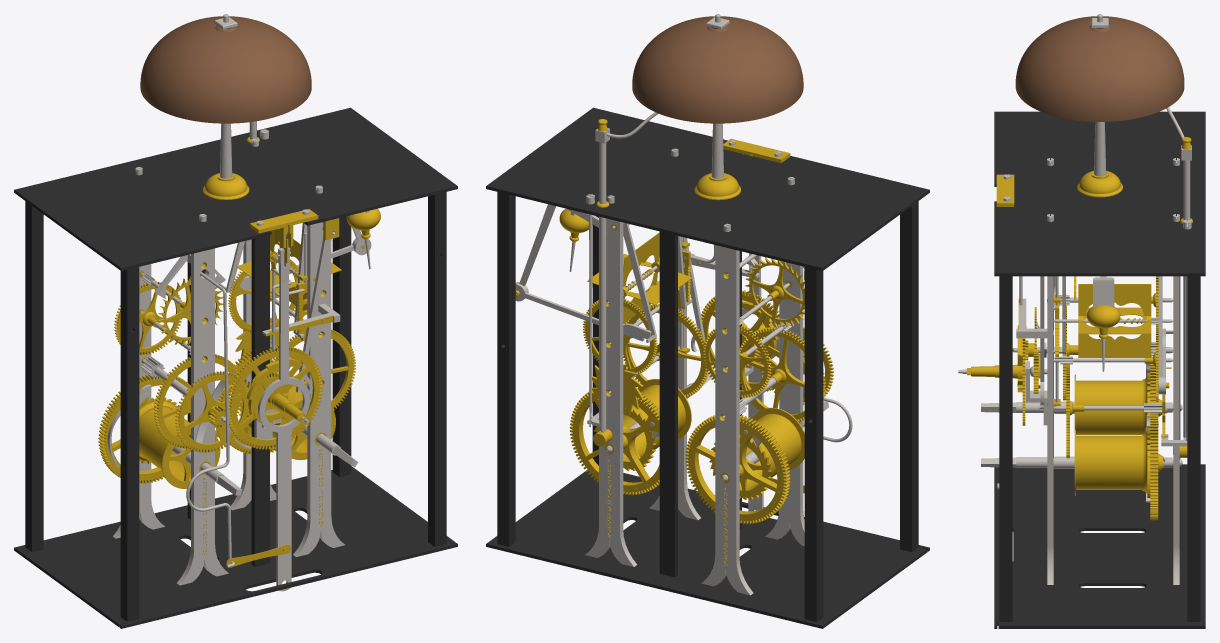
Rendered from Horloge-Comtoise_Ancre.glb.
3 renders of one model, left to right at view 1: azimuth 30°, elevation 25°; view 2: azimuth 150°, elevation 25°; view 3: azimuth 270°, elevation 25°, orthographic.
Visible parts, largest first — view 1: bati-1 - Part, Timbre-1 - Part, pilier avant mouvement-1 - Part, piliers avant sonnerie-1 - Part, tige balancier-2 - Part, Rouedesheures-1 - Part, Tambourmvt-1 - Part, RoueRenvoitrou-1 - Part, Couronnemvt-1 - Part, pilier arrière mouvement-1 - Part, Rouedetemps-1 - Part, tige-1 - Part (+12 smaller); view 2: bati-1 - Part, Timbre-1 - Part, pilier arrière mouvement-1 - Part, piliers arrière sonnerie-1 - Part, pilier avant mouvement-1 - Part, Couronnemvt-1 - Part, Tambourmvt-1 - Part, Couronneson-1 - Part, Bras marteau-1 - Part, Tambourson-1 - Part, Rouedetemps-1 - Part, piliers avant sonnerie-1 - Part (+16 smaller); view 3: bati-1 - Part, Timbre-1 - Part, Tambourson-1 - Part, Tambourmvt-1 - Part, piliers avant sonnerie-1 - Part, piliers arrière sonnerie-1 - Part, pale volant-2 - Part, pale volant-3 - Part, Bras marteau-1 - Part, Bras grande détente-1 - Part, axebarilletson-1 - Part, Couronneson-1 - Part (+15 smaller).
Part boxes in pixels (x1=…): bati-1 - Part: x1=14, y1=107, x2=457, y2=628; Timbre-1 - Part: x1=140, y1=16, x2=311, y2=123; pilier avant mouvement-1 - Part: x1=177, y1=248, x2=228, y2=585; piliers avant sonnerie-1 - Part: x1=293, y1=222, x2=344, y2=556; tige balancier-2 - Part: x1=258, y1=247, x2=310, y2=591; Rouedesheures-1 - Part: x1=228, y1=346, x2=322, y2=449; Tambourmvt-1 - Part: x1=139, y1=397, x2=220, y2=488; RoueRenvoitrou-1 - Part: x1=175, y1=371, x2=250, y2=453; Couronnemvt-1 - Part: x1=98, y1=373, x2=190, y2=483; pilier arrière mouvement-1 - Part: x1=113, y1=264, x2=164, y2=538; Rouedetemps-1 - Part: x1=153, y1=354, x2=242, y2=449; tige-1 - Part: x1=186, y1=254, x2=234, y2=567; bati-1 - Part: x1=486, y1=107, x2=929, y2=628; Timbre-1 - Part: x1=632, y1=16, x2=803, y2=123; pilier arrière mouvement-1 - Part: x1=701, y1=245, x2=753, y2=595; piliers arrière sonnerie-1 - Part: x1=585, y1=217, x2=637, y2=566; pilier avant mouvement-1 - Part: x1=765, y1=261, x2=804, y2=546; Couronnemvt-1 - Part: x1=685, y1=415, x2=790, y2=524; Tambourmvt-1 - Part: x1=709, y1=407, x2=804, y2=499; Couronneson-1 - Part: x1=569, y1=390, x2=659, y2=495; Bras marteau-1 - Part: x1=587, y1=142, x2=606, y2=432; Tambourson-1 - Part: x1=594, y1=379, x2=691, y2=470; Rouedetemps-1 - Part: x1=739, y1=327, x2=825, y2=421; piliers avant sonnerie-1 - Part: x1=649, y1=237, x2=700, y2=520; bati-1 - Part: x1=994, y1=111, x2=1205, y2=628; Timbre-1 - Part: x1=1015, y1=16, x2=1184, y2=121; Tambourson-1 - Part: x1=1074, y1=427, x2=1150, y2=497; Tambourmvt-1 - Part: x1=1074, y1=372, x2=1150, y2=434; piliers avant sonnerie-1 - Part: x1=1047, y1=276, x2=1053, y2=584; piliers arrière sonnerie-1 - Part: x1=1173, y1=276, x2=1179, y2=584; pale volant-2 - Part: x1=1078, y1=334, x2=1151, y2=357; pale volant-3 - Part: x1=1078, y1=284, x2=1151, y2=315; Bras marteau-1 - Part: x1=1161, y1=160, x2=1190, y2=446; Bras grande détente-1 - Part: x1=1040, y1=276, x2=1162, y2=405; axebarilletson-1 - Part: x1=981, y1=456, x2=1182, y2=468; Couronneson-1 - Part: x1=1150, y1=412, x2=1158, y2=520.
Size of the model in its own units: 0.272 by 0.4191 by 0.1757.
